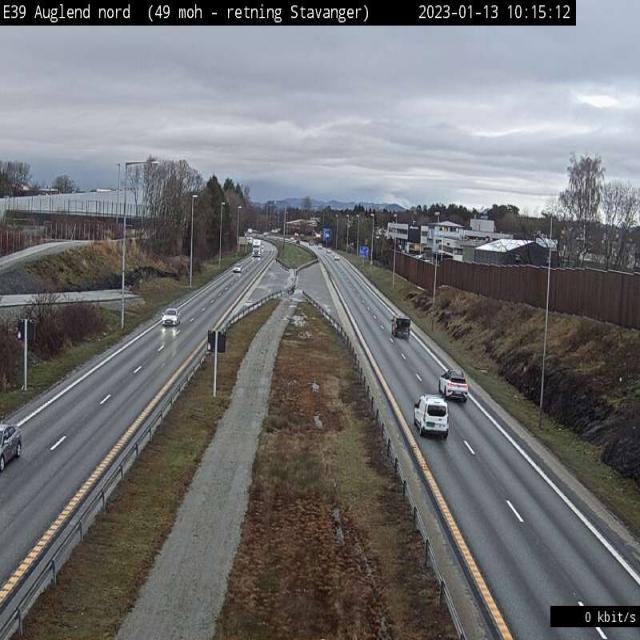car: (414, 394, 449, 438), (0, 423, 23, 472), (439, 367, 470, 402), (476, 239, 526, 253), (162, 311, 179, 328)
